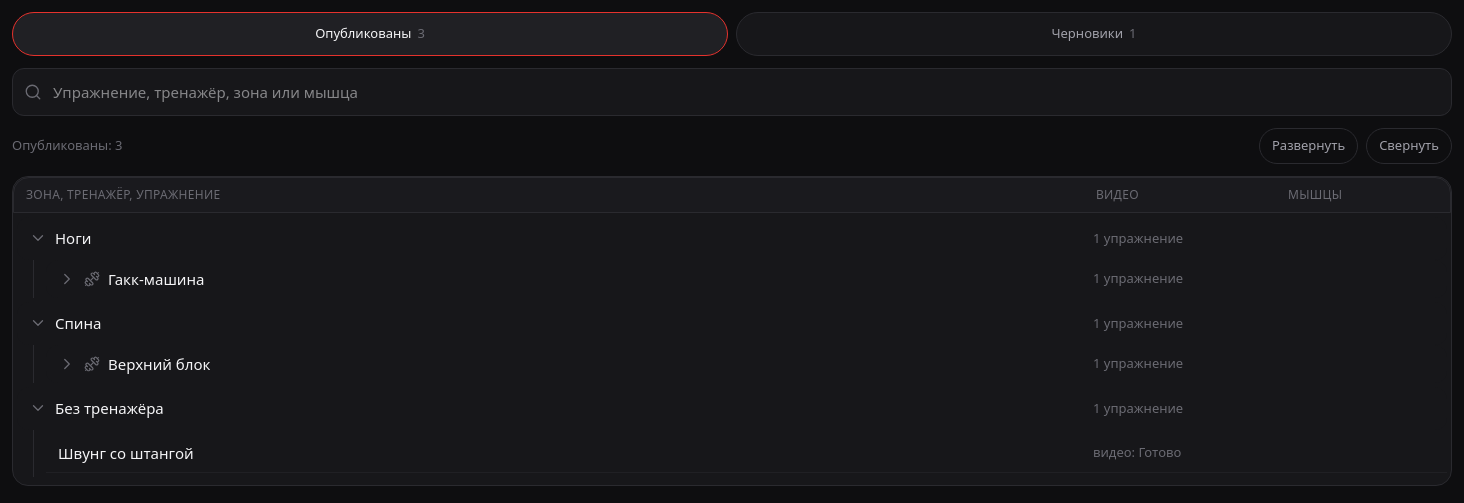
Test: поиск раскрывает ветку, подсвечивает совпадение и считает найденное
The width and height of the screenshot is (1464, 503).
Type "тяга" into the search field named "Поиск по упражнениям" at (732, 92), box [12,68,1452,116]
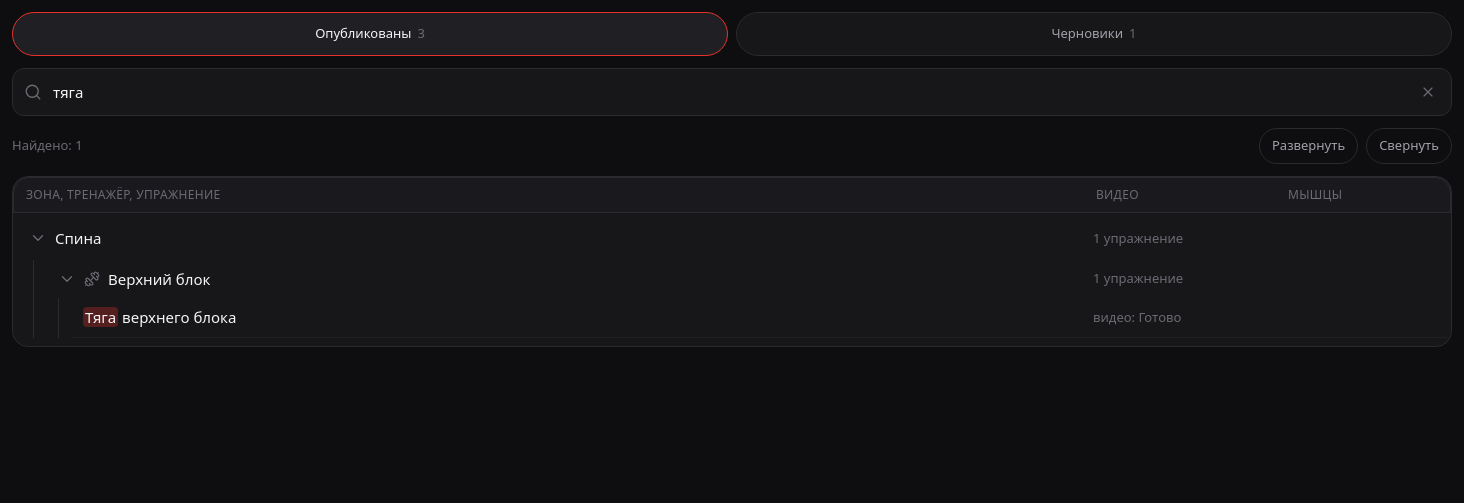
Check: the text "Найдено: 1" is shown, box [12,136,83,156]
Check: the button "Тяга верхнего блока видео: Готово" is shown, box [71,298,1447,338]
Check: the text "Тяга" is shown, box [83,307,118,327]
